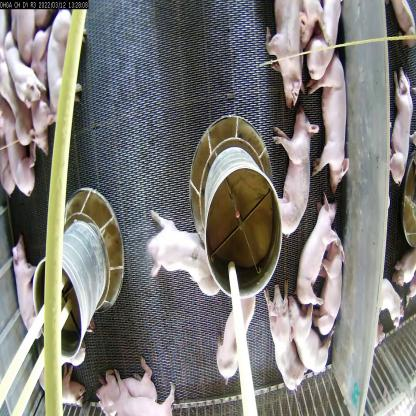Pig: (146, 206, 226, 306), (271, 109, 325, 247), (305, 51, 350, 202), (260, 277, 308, 394), (284, 280, 334, 381), (263, 0, 306, 107), (300, 196, 340, 308), (4, 229, 45, 338), (92, 351, 160, 415), (105, 356, 175, 416), (2, 30, 46, 117), (216, 288, 257, 380), (314, 226, 346, 342), (40, 353, 89, 413), (391, 65, 414, 190)
